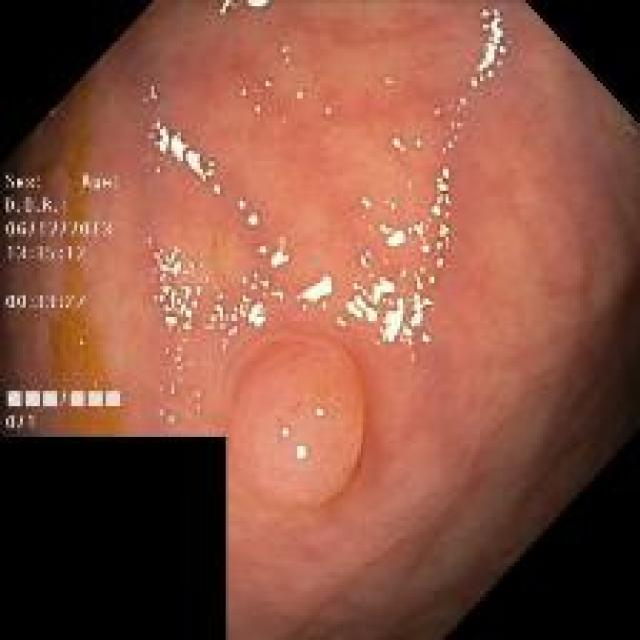Polyps: (228, 335, 362, 507)
